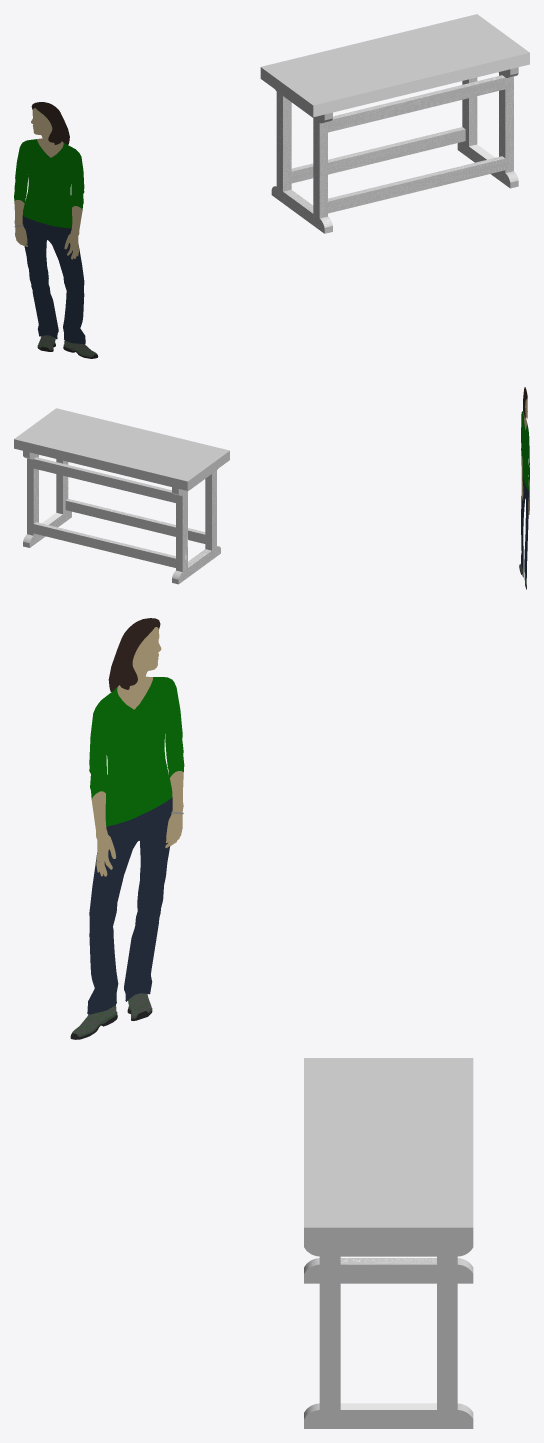
File: bench.dae
The picture shows the model from 3 angles, top to bottom: view 1: azimuth 30°, elevation 25°; view 2: azimuth 150°, elevation 25°; view 3: azimuth 270°, elevation 25°; orthographic projection. The views are drawn at different scales.
Parts seen in each view (by area): view 1: SketchUp (×3), Susan (×5); view 2: SketchUp (×2), Susan (×2); view 3: SketchUp (×2), Susan (×5).
Boxes of the visible parts, x1,y1,x2,y2 form: SketchUp (×3): [260, 14, 529, 233]; Susan (×5): [14, 102, 85, 344]; SketchUp (×2): [14, 408, 229, 584]; Susan (×2): [521, 411, 529, 577]; SketchUp (×2): [304, 1058, 473, 1428]; Susan (×5): [87, 618, 184, 1014].
Bounding box in the file's own units: 155 × 60.87 × 66.6.
